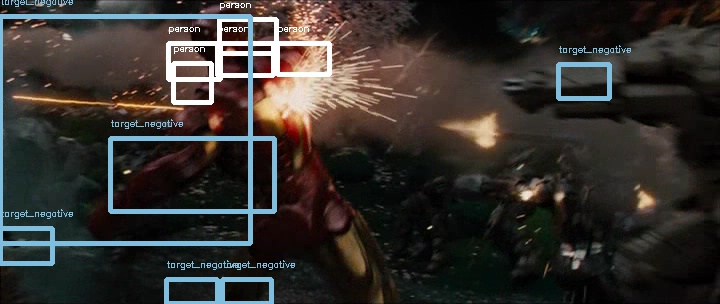person: (194, 3, 251, 65), (193, 3, 250, 65), (195, 3, 252, 65), (194, 2, 251, 64), (194, 4, 251, 66)
target_negative: (40, 84, 719, 214), (21, 133, 327, 276), (76, 75, 215, 286), (313, 111, 674, 148), (200, 263, 406, 295), (597, 171, 648, 230)
